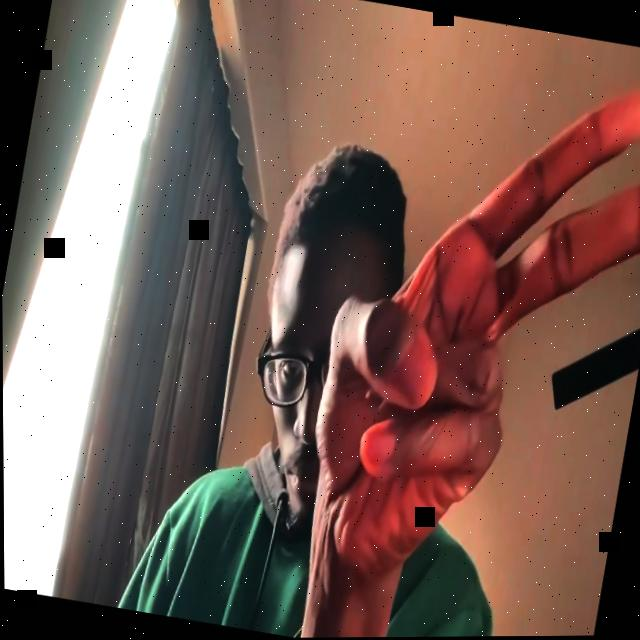Scissors: (288, 41, 640, 617)
